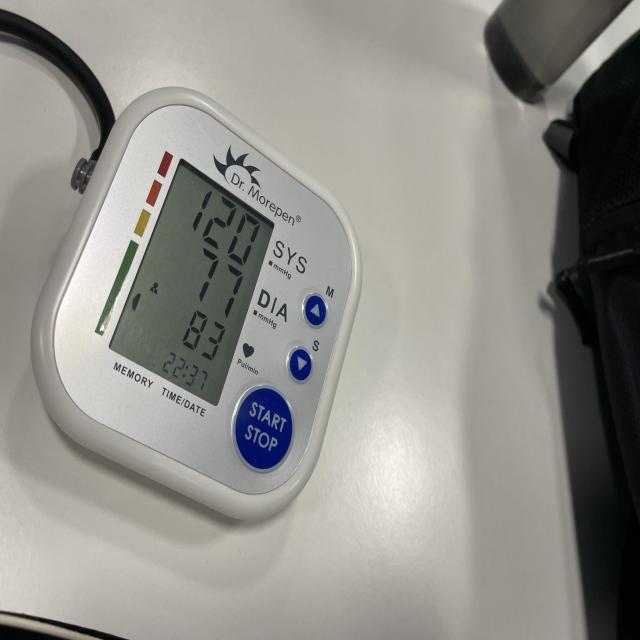bp: (28, 88, 362, 526)
